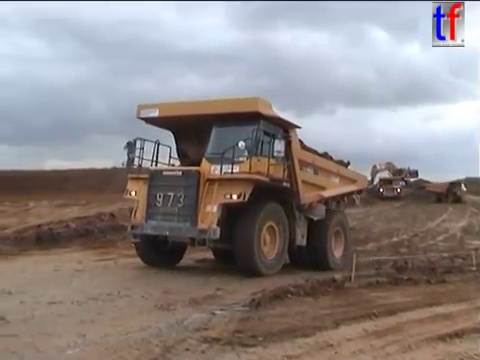excavator: (365, 160, 420, 187)
truck: (119, 95, 369, 278), (419, 178, 468, 204), (326, 175, 364, 208), (372, 175, 403, 200)
